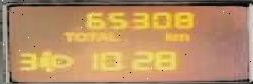0: (96, 50, 122, 69), (149, 11, 171, 27)
1: (87, 50, 98, 69)
2: (129, 49, 151, 69)
3: (16, 52, 36, 69), (129, 12, 147, 27)
5: (105, 10, 125, 28)
6: (83, 10, 103, 28)
8: (154, 49, 176, 69), (171, 11, 191, 27)
X: (171, 32, 189, 41), (107, 31, 122, 41), (71, 31, 85, 41), (96, 31, 107, 42), (60, 31, 71, 41), (85, 31, 96, 41), (162, 29, 171, 40)
